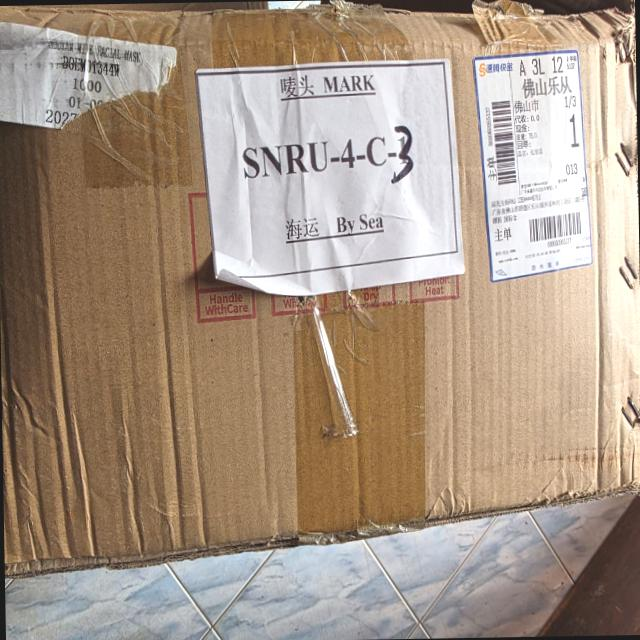carton_box: (0, 0, 640, 571)
export_mark_label: (193, 54, 472, 310), (469, 44, 596, 288)
package_damage: (188, 0, 635, 54), (172, 518, 450, 561), (532, 460, 637, 519), (604, 8, 636, 81)
